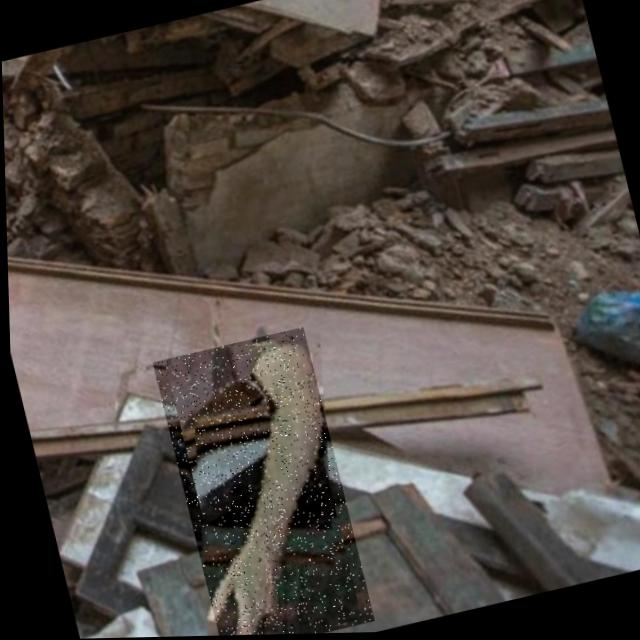Person in Rubble: (149, 326, 370, 638)
